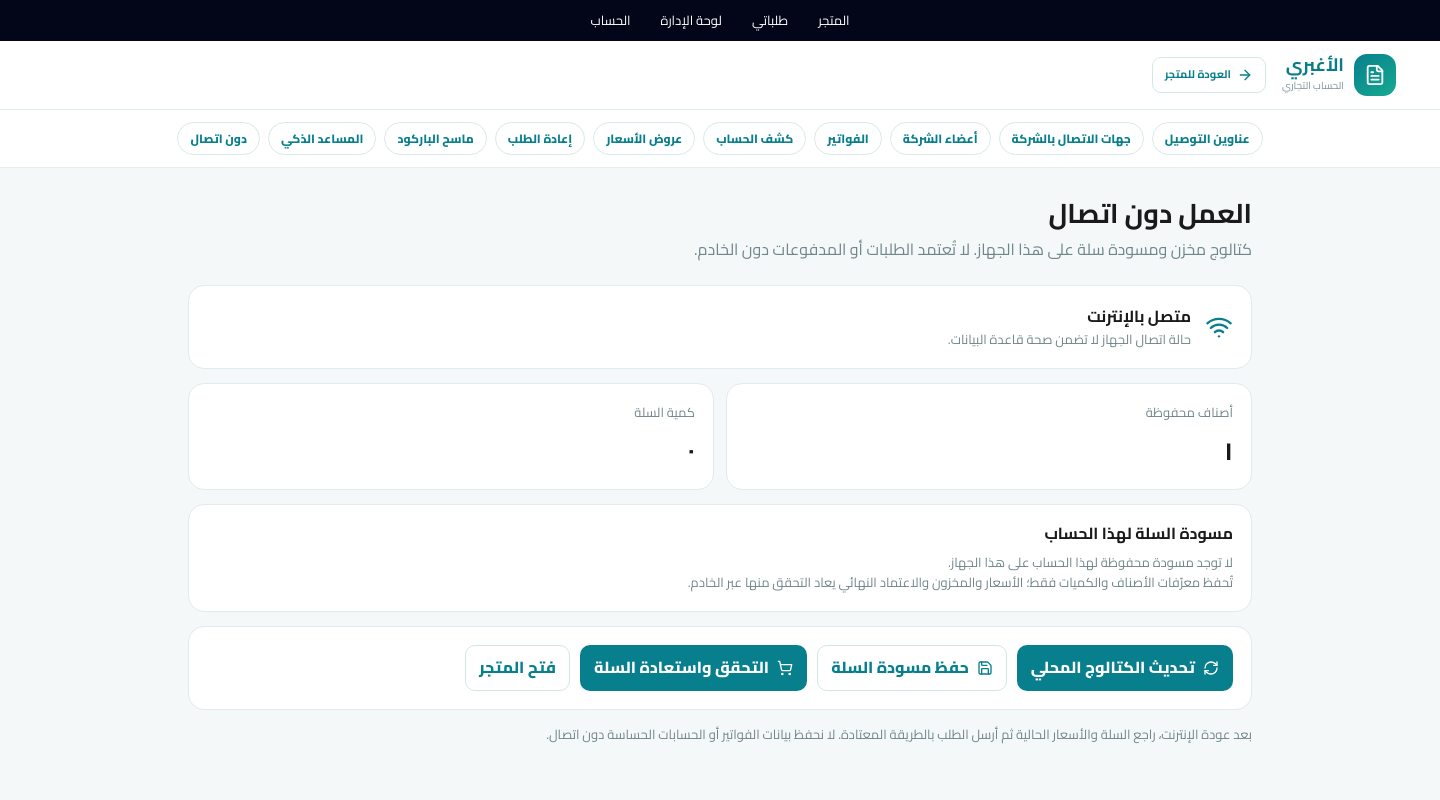
offline workspace real-route acceptance › keeps the local catalog unchanged after sync failure and recovers on retry
Click the button "تحديث الكتالوج المحلي" at (1125, 668), box top-left (1017, 645), bottom-right (1233, 691)
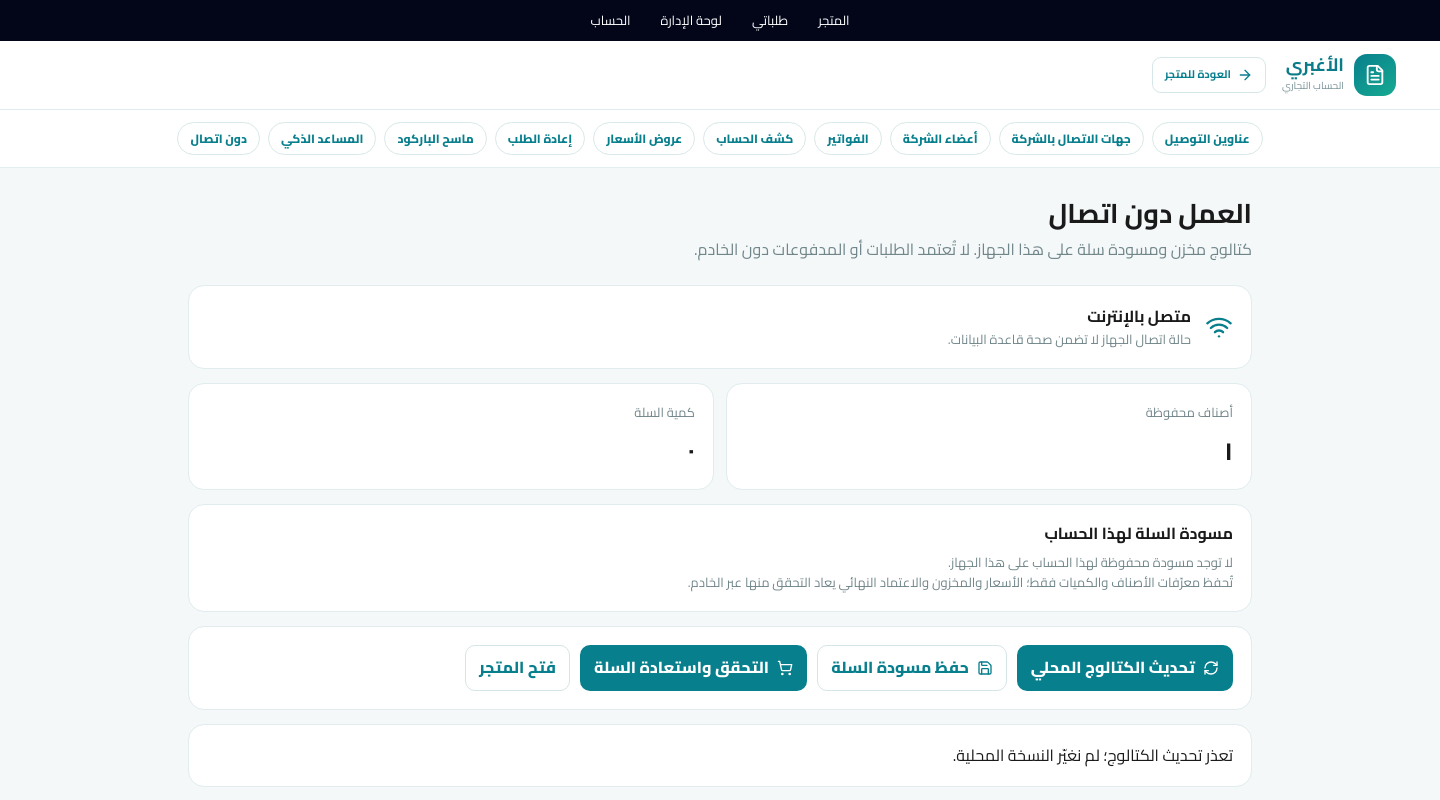
Expected: the message "تعذر تحديث الكتالوج؛ لم نغيّر النسخة المحلية." is shown, top-left (188, 724), bottom-right (1252, 787)
Click the button "تحديث الكتالوج المحلي" at (1125, 668), box top-left (1017, 645), bottom-right (1233, 691)
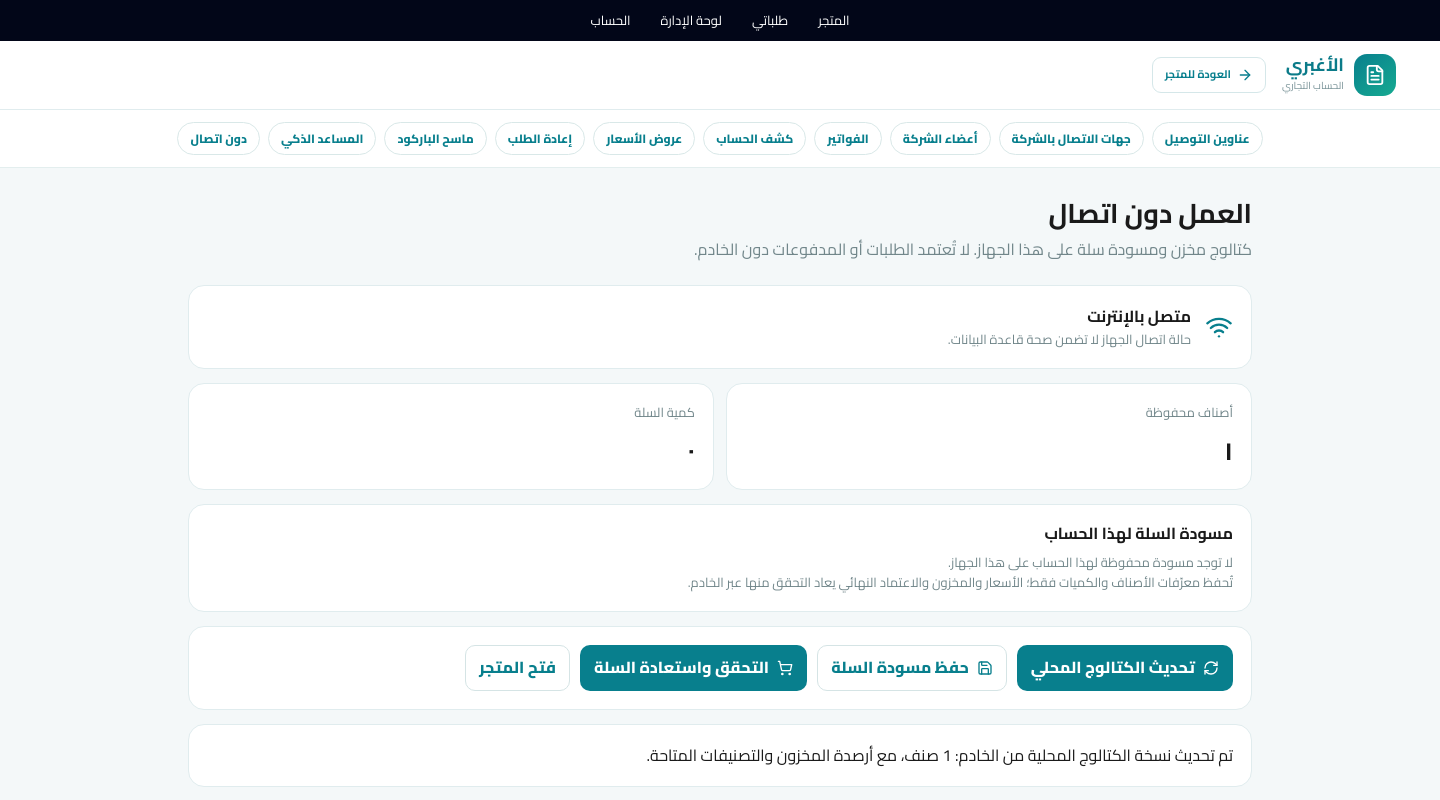
Expected: the message shows "تم تحديث نسخة الكتالوج المحلية من الخادم: 1 صنف", top-left (646, 740), bottom-right (1233, 770)
